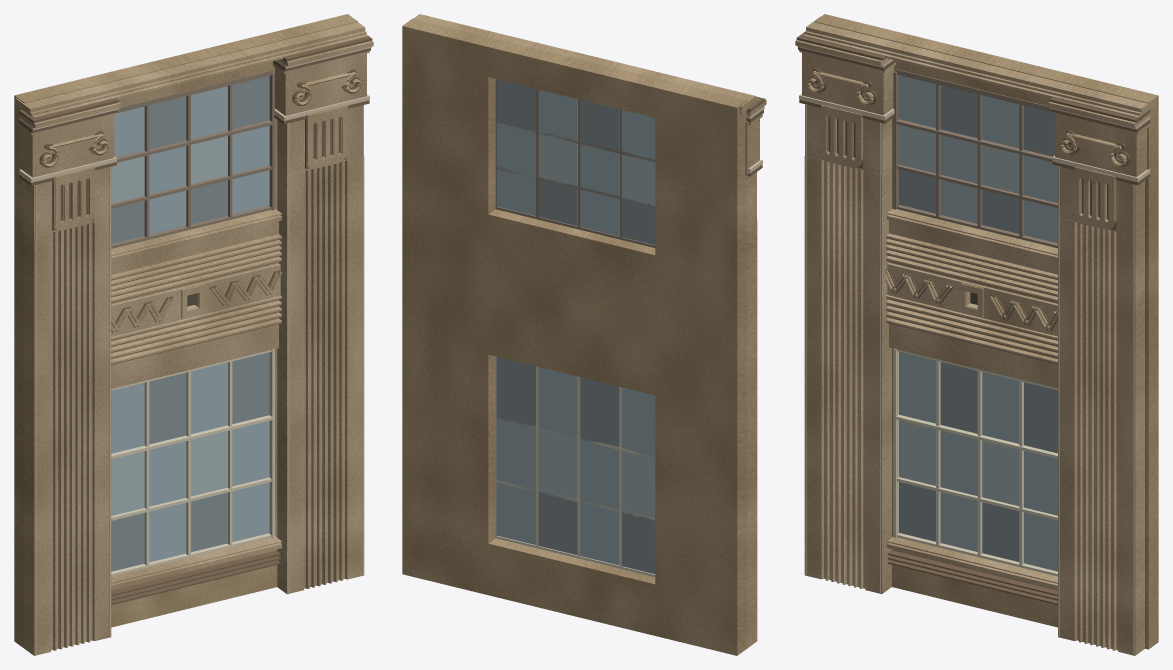
File: high-court-fluted-spandrel-far.glb
The picture shows the model from 3 angles, left to right: view 1: azimuth 30°, elevation 25°; view 2: azimuth 150°, elevation 25°; view 3: azimuth 330°, elevation 25°; orthographic projection.
Visible parts, largest first — view 1: 浙江北路高等法院旧址卷首壁柱与几何窗间墙; view 2: 浙江北路高等法院旧址卷首壁柱与几何窗间墙; view 3: 浙江北路高等法院旧址卷首壁柱与几何窗间墙.
Boxes of the visible parts, x1,y1,x2,y2 form: 浙江北路高等法院旧址卷首壁柱与几何窗间墙: [14, 14, 373, 655]; 浙江北路高等法院旧址卷首壁柱与几何窗间墙: [402, 14, 766, 655]; 浙江北路高等法院旧址卷首壁柱与几何窗间墙: [795, 14, 1158, 655].
Bounding box in the file's own units: 4.34 × 6.69 × 0.559.
Materials: 10 (2 with a texture image).
